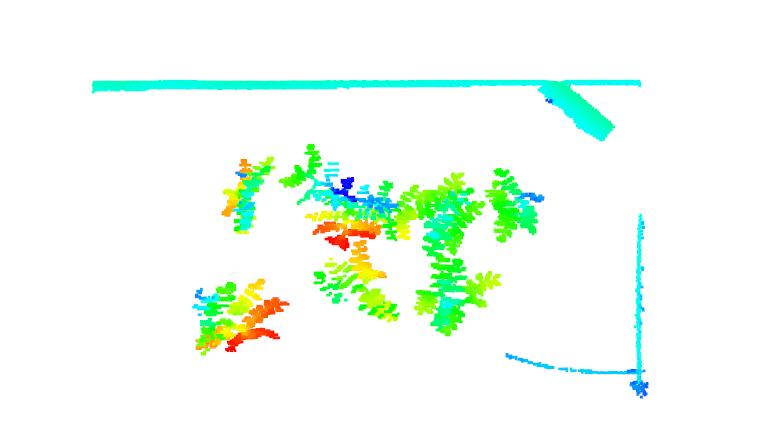chickpea: (281, 140, 414, 249), (189, 275, 288, 356), (310, 240, 402, 322), (415, 252, 499, 332), (486, 155, 554, 245), (411, 171, 486, 251), (214, 151, 275, 234)
